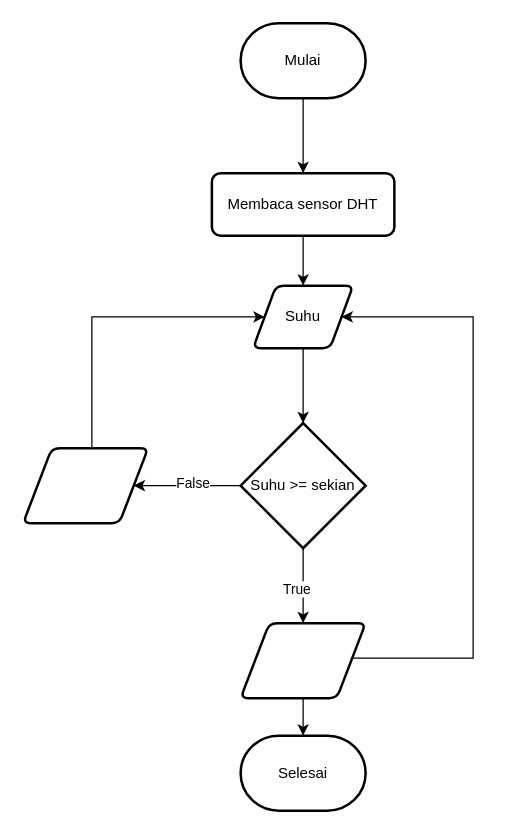
This 505x833 diagram has some shape labels left out. The shapes that lost their labels are listed below. From the top down, each one's centre as x and y in pixels, then its label:
At point (85, 485): "Kipas Off".
At point (302, 660): "Kipas On".
